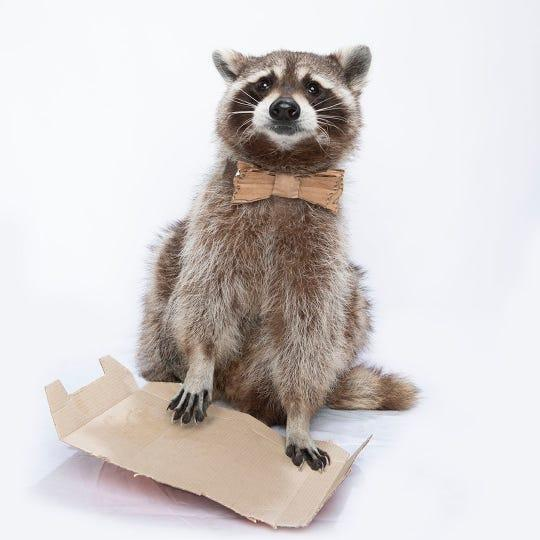raccoon: (132, 36, 434, 476)
